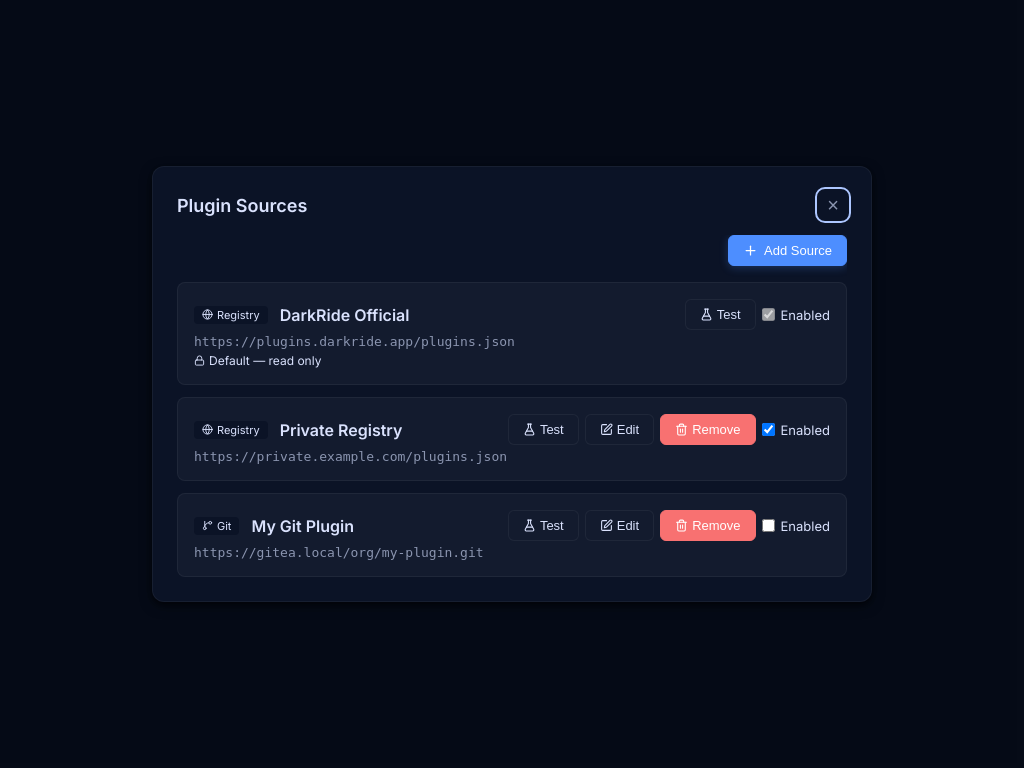
Test: SourceManagerModal › add source form appears on button click
The width and height of the screenshot is (1024, 768).
Expected: the text "DarkRide Official" is shown, x1=280 y1=304 x2=410 y2=324
Click the button "Add Source" at (788,250), box x1=728 y1=235 x2=847 y2=266
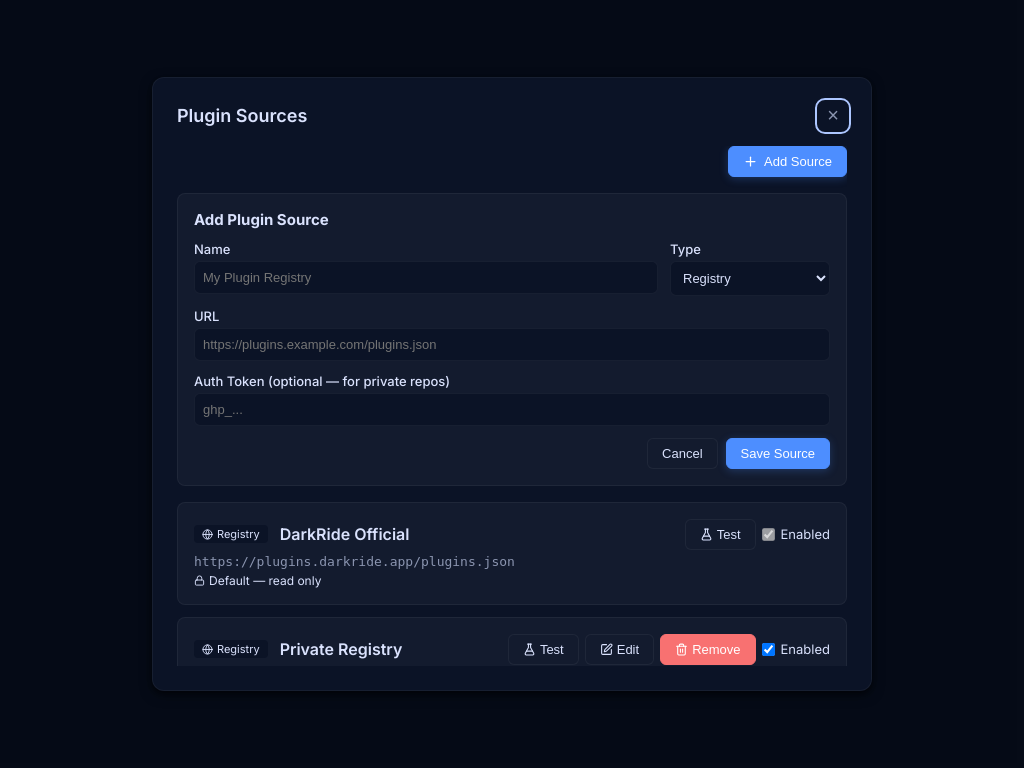
Expected: the heading "Add Plugin Source" is shown, x1=194 y1=210 x2=329 y2=229
Expected: the field with placeholder "My Plugin Registry" is shown, x1=194 y1=261 x2=658 y2=294
